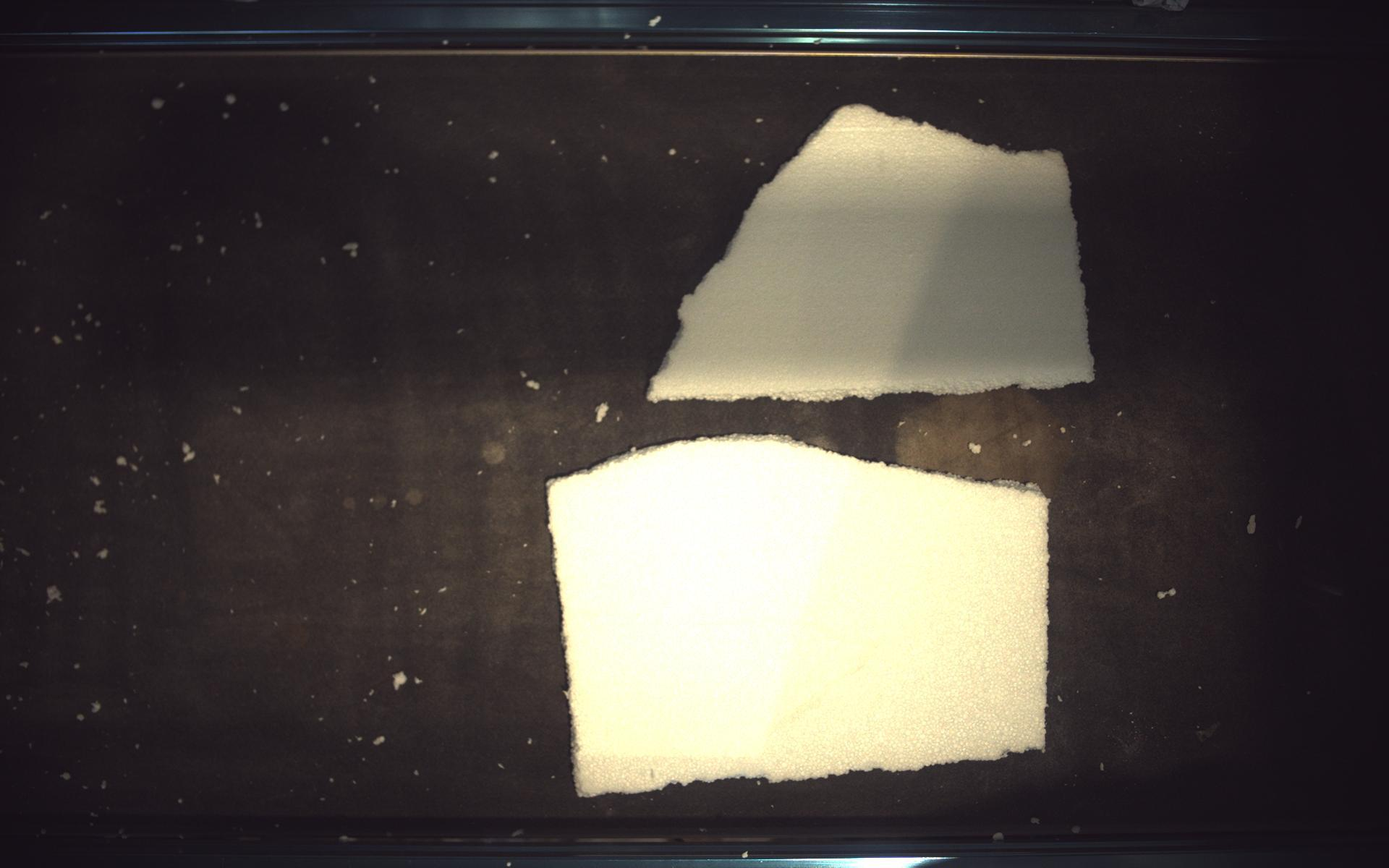foam: (548, 436, 1050, 797), (650, 104, 1095, 401)
